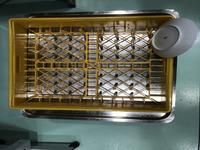Inclined_dish: (151, 18, 198, 58)
